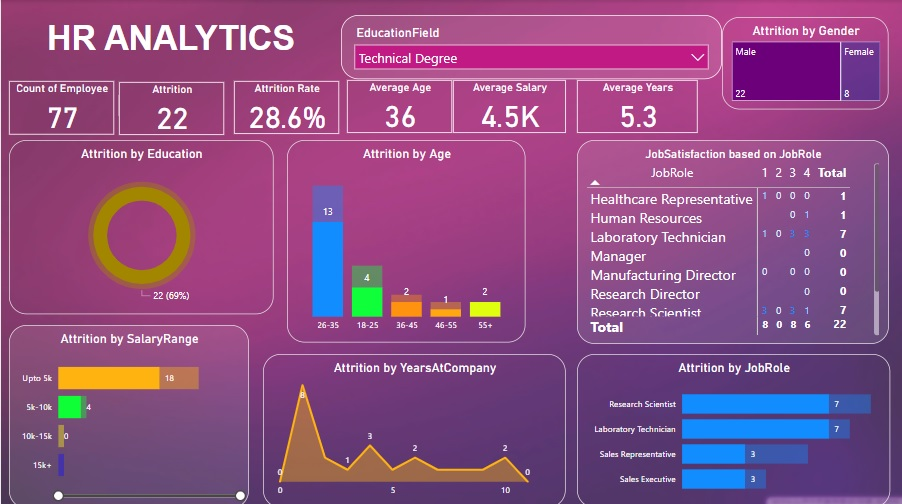

What the dashboard file says about the page in this screenshot:
{"tool":"powerbi","page":{"name":"Page 1","canvas":[1280,720],"ordinal":0},"visuals":[{"type":"card","title":"Count of Employee","fields":{"Values":["Count(HR_Analytics.EmpID)"]},"box":[10.9,114.5,149.1,76.4],"z":0},{"type":"card","title":"Attrition","fields":{"Values":["Sum(HR_Analytics.AttritionCount)"]},"box":[167.3,116.4,149.1,74.5],"z":1000},{"type":"card","title":"Attrition Rate","fields":{"Values":["HR_Analytics.AttritionRate"]},"box":[330.9,114.5,149.1,74.5],"z":2000},{"type":"card","title":"Average Age","fields":{"Values":["Avg(HR_Analytics.Age)"]},"box":[490.9,112.7,149.1,74.5],"z":3000},{"type":"card","title":"Average Salary","fields":{"Values":["Avg(HR_Analytics.MonthlyIncome)"]},"box":[640,112.7,160,74.5],"z":4000},{"type":"card","title":"Average Years ","fields":{"Values":["Avg(HR_Analytics.YearsAtCompany)"]},"box":[816.4,112.7,170.9,74.5],"z":5000},{"type":"donutChart","title":"Attrition by Education","fields":{"Category":["HR_Analytics.EducationField"],"Y":["Sum(HR_Analytics.AttritionCount)"]},"box":[10.9,198.2,374.5,247.3],"z":6000},{"type":"columnChart","title":"Attrition by Age","fields":{"Category":["HR_Analytics.AgeGroup"],"Y":["Sum(HR_Analytics.AttritionCount)"]},"box":[405.5,198.2,338.2,287.3],"z":7000},{"type":"pivotTable","title":"JobSatisfaction based on JobRole","fields":{"Rows":["HR_Analytics.JobRole"],"Columns":["HR_Analytics.JobSatisfaction"],"Values":["Sum(HR_Analytics.AttritionCount)"]},"box":[816.4,198.2,441.8,289.1],"z":8000},{"type":"clusteredBarChart","title":"Attrition by SalaryRange","fields":{"Category":["HR_Analytics.SalarySlab"],"Y":["Sum(HR_Analytics.AttritionCount)"]},"box":[10.9,460,340,260],"z":9000},{"type":"clusteredBarChart","title":"Attrition by JobRole","fields":{"Y":["Sum(HR_Analytics.AttritionCount)"],"Category":["HR_Analytics.JobRole"]},"box":[816.4,501.8,443.6,218.2],"z":10000},{"type":"areaChart","title":"Attrition by YearsAtCompany","fields":{"Category":["HR_Analytics.YearsAtCompany"],"Y":["Sum(HR_Analytics.AttritionCount)"]},"box":[370.9,501.8,429.1,218.2],"z":11000},{"type":"treemap","title":"Attrition by Gender","fields":{"Values":["Sum(HR_Analytics.AttritionCount)"],"Group":["HR_Analytics.Gender"]},"box":[1021.8,23.6,236.4,130.9],"z":12000},{"type":"textbox","box":[0,21.8,481.8,90.9],"z":13000},{"type":"slicer","fields":{"Values":["HR_Analytics.EducationField"]},"box":[481.8,21.8,540,90.9],"z":14000}]}

Visuals, with their boxes in screenshot pixels (x1, y1, x2, y2), scaled from the page's 1280x720 canvas onto the 902x504 screenshot:
"Count of Employee" card: <bbox>8, 80, 113, 134</bbox>
"Attrition" card: <bbox>118, 81, 223, 134</bbox>
"Attrition Rate" card: <bbox>233, 80, 338, 132</bbox>
"Average Age" card: <bbox>346, 79, 451, 131</bbox>
"Average Salary" card: <bbox>451, 79, 564, 131</bbox>
"Average Years " card: <bbox>575, 79, 696, 131</bbox>
"Attrition by Education" donutChart: <bbox>8, 139, 272, 312</bbox>
"Attrition by Age" columnChart: <bbox>286, 139, 524, 340</bbox>
"JobSatisfaction based on JobRole" pivotTable: <bbox>575, 139, 887, 341</bbox>
"Attrition by SalaryRange" clusteredBarChart: <bbox>8, 322, 247, 503</bbox>
"Attrition by JobRole" clusteredBarChart: <bbox>575, 351, 888, 503</bbox>
"Attrition by YearsAtCompany" areaChart: <bbox>261, 351, 564, 503</bbox>
"Attrition by Gender" treemap: <bbox>720, 17, 887, 108</bbox>
textbox: <bbox>0, 15, 340, 79</bbox>
slicer - HR_Analytics.EducationField: <bbox>340, 15, 720, 79</bbox>
